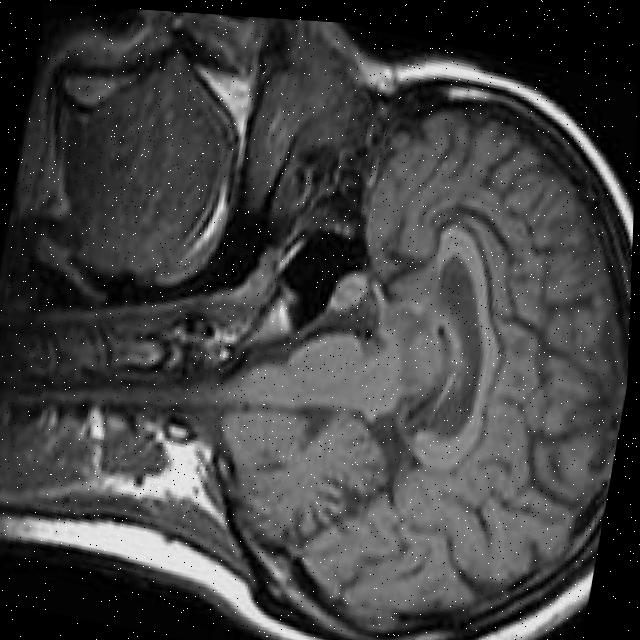NoTumor: (180, 18, 640, 640)
